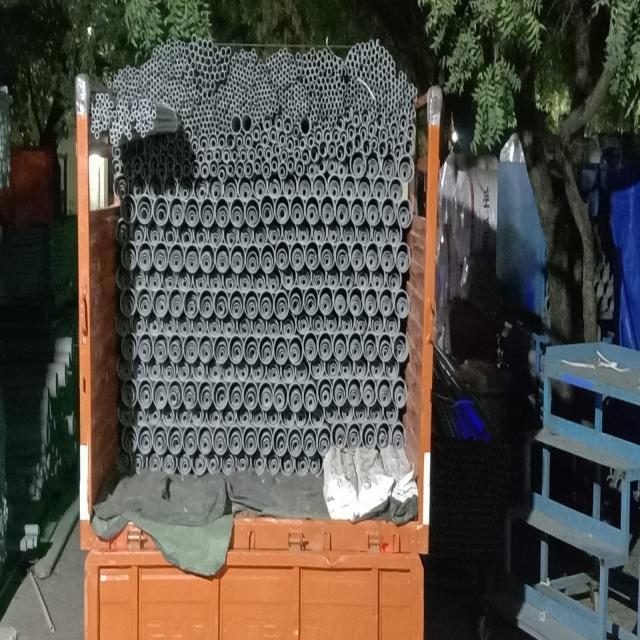pipe: (125, 83, 177, 144), (264, 132, 304, 209), (170, 249, 205, 296), (380, 310, 398, 401), (152, 228, 177, 293), (133, 280, 170, 323), (323, 380, 351, 427), (203, 301, 225, 357), (263, 232, 298, 267), (314, 253, 341, 296), (287, 193, 315, 231), (187, 143, 215, 181), (225, 180, 242, 242), (292, 303, 322, 338), (146, 157, 170, 200), (166, 392, 187, 440), (359, 132, 379, 182), (230, 331, 262, 361), (333, 189, 355, 232), (222, 278, 244, 321), (173, 442, 198, 479), (159, 326, 183, 364), (122, 145, 148, 179), (124, 431, 146, 471), (344, 364, 367, 402), (355, 221, 375, 264), (369, 346, 381, 410), (336, 296, 356, 334), (246, 360, 266, 398), (318, 129, 345, 157), (174, 230, 192, 272), (215, 289, 235, 325), (266, 272, 285, 309), (212, 333, 231, 369), (213, 380, 228, 425), (216, 237, 241, 264), (307, 225, 328, 257), (382, 129, 403, 161), (236, 431, 255, 466), (273, 422, 289, 460), (175, 328, 194, 359), (181, 374, 200, 405), (212, 107, 233, 135), (289, 240, 307, 272), (240, 161, 258, 193), (142, 338, 158, 373), (261, 75, 280, 104), (258, 381, 275, 413), (220, 336, 254, 352), (246, 392, 255, 452), (383, 195, 396, 236), (255, 324, 269, 362), (260, 245, 277, 276), (363, 290, 380, 321), (247, 253, 260, 293), (124, 331, 138, 368), (152, 380, 172, 405), (336, 241, 351, 274), (168, 201, 186, 228), (250, 131, 265, 163), (286, 422, 301, 454), (312, 171, 328, 200), (152, 417, 163, 459), (376, 181, 395, 204), (303, 332, 318, 361), (289, 336, 303, 366), (318, 332, 333, 360), (134, 410, 148, 440), (279, 328, 290, 366), (195, 421, 208, 453), (138, 61, 155, 85), (332, 161, 352, 181), (280, 403, 301, 421), (224, 454, 240, 477), (347, 303, 360, 331), (322, 86, 337, 110), (135, 182, 147, 212), (311, 431, 320, 471), (185, 355, 202, 376), (312, 397, 323, 429), (194, 440, 210, 462), (405, 129, 415, 164), (274, 148, 288, 173), (223, 451, 235, 480), (179, 109, 198, 127), (309, 358, 325, 379), (237, 94, 258, 110), (226, 52, 241, 74), (296, 361, 311, 382), (192, 234, 197, 297), (245, 100, 249, 178), (132, 376, 144, 402), (371, 66, 378, 109), (263, 53, 274, 80), (228, 67, 241, 89), (209, 222, 224, 241), (238, 69, 253, 88), (281, 365, 296, 383), (178, 86, 193, 104), (253, 299, 265, 321), (230, 116, 244, 134), (287, 109, 305, 123), (392, 267, 401, 295), (300, 118, 312, 138), (195, 90, 215, 102), (186, 315, 194, 345), (133, 230, 146, 248), (277, 55, 290, 73), (289, 343, 300, 364), (241, 77, 256, 92), (207, 370, 217, 392), (283, 116, 294, 135), (131, 261, 139, 287), (108, 129, 117, 152), (235, 260, 245, 280), (382, 422, 390, 447), (289, 49, 297, 74), (242, 114, 253, 132), (290, 93, 303, 108), (143, 109, 155, 125), (122, 108, 132, 127), (241, 54, 258, 65), (242, 62, 256, 75), (275, 113, 285, 131), (218, 85, 228, 102), (128, 84, 140, 98), (174, 51, 183, 69), (199, 61, 208, 79), (159, 40, 167, 59), (173, 145, 178, 174), (265, 146, 273, 164), (161, 86, 171, 100), (263, 116, 272, 131), (197, 53, 208, 65), (228, 166, 239, 178), (197, 74, 205, 90), (135, 337, 142, 353), (300, 70, 306, 88), (350, 58, 356, 76), (399, 97, 402, 130), (184, 86, 193, 97), (317, 76, 332, 82), (194, 104, 203, 114), (264, 92, 272, 103), (341, 103, 346, 120), (162, 59, 168, 73), (115, 72, 123, 82), (187, 41, 193, 54), (376, 58, 380, 76), (126, 66, 132, 78), (177, 57, 185, 66), (147, 85, 153, 96), (187, 64, 192, 77), (220, 47, 227, 56), (105, 93, 111, 102), (95, 92, 100, 102), (110, 100, 115, 110), (213, 65, 218, 75), (113, 111, 118, 119), (95, 132, 99, 141), (103, 123, 107, 132), (159, 53, 171, 56), (292, 351, 297, 358), (105, 102, 110, 109), (95, 103, 100, 110), (100, 93, 104, 101), (101, 101, 105, 109), (106, 117, 110, 125), (96, 108, 100, 116), (91, 116, 95, 124), (98, 124, 102, 132), (257, 80, 261, 88), (169, 46, 170, 78), (104, 110, 109, 116), (91, 109, 96, 115), (97, 115, 102, 121), (109, 110, 113, 116), (100, 109, 104, 115), (211, 205, 233, 206), (102, 117, 106, 122), (120, 91, 123, 97), (201, 131, 212, 132), (387, 83, 395, 84), (194, 40, 196, 42)
